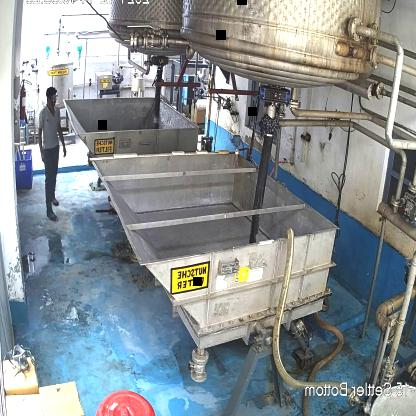goggles: (47, 93, 60, 103)
shoes: (45, 208, 59, 223), (49, 192, 60, 206)
